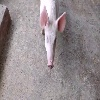heo: (37, 3, 66, 70)
